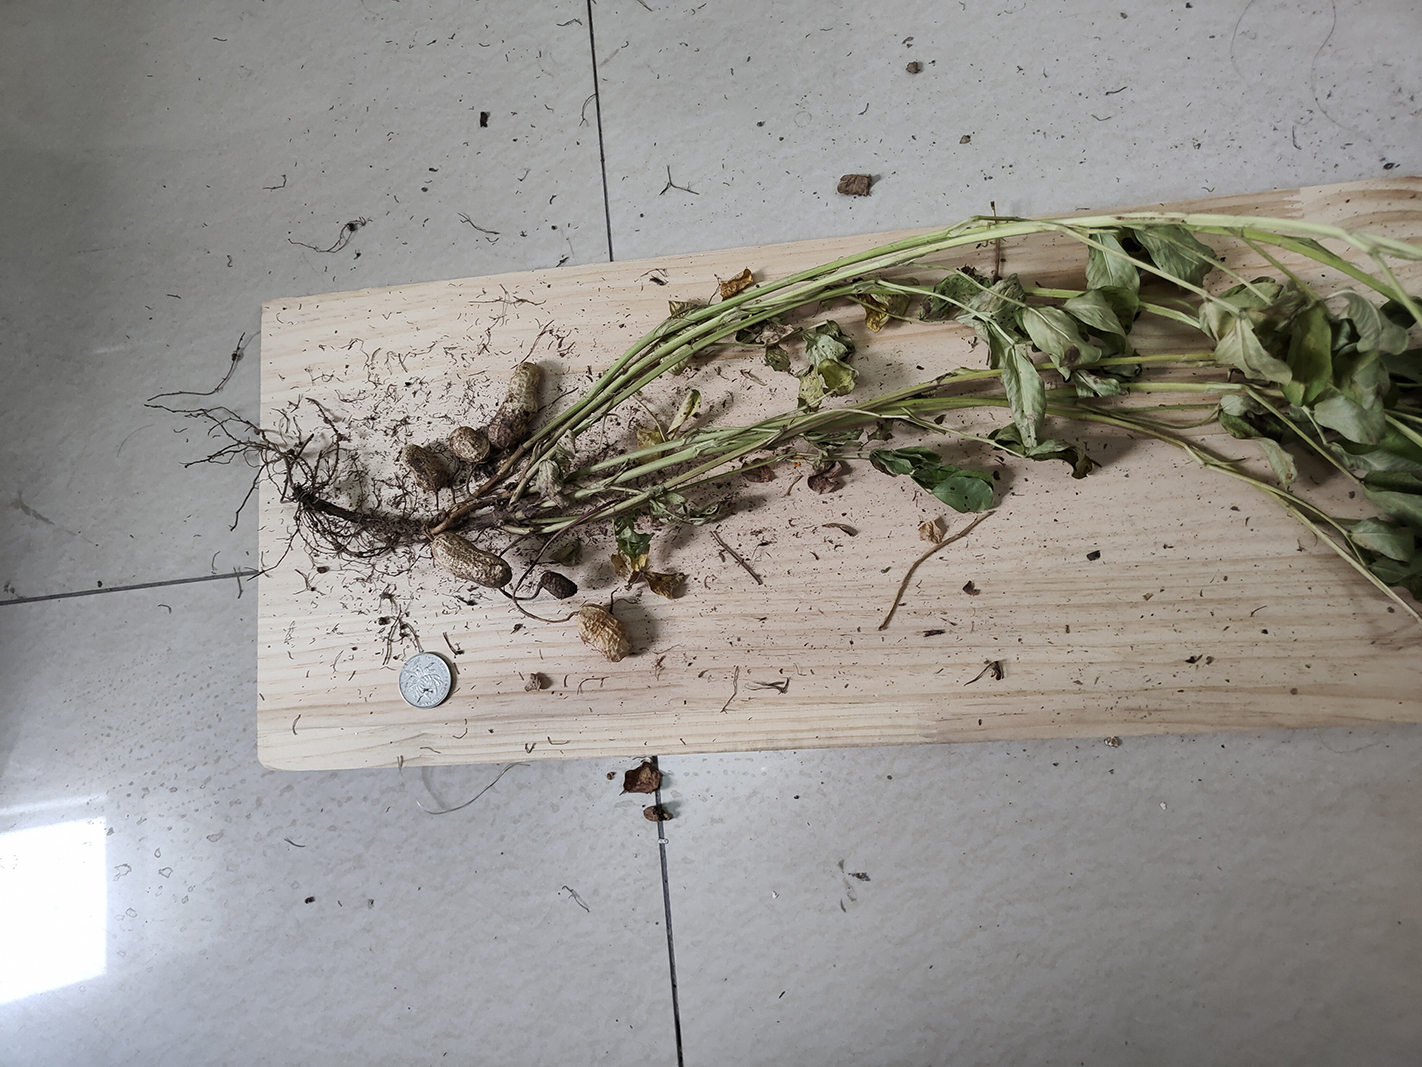h: (490, 361, 543, 448), (433, 533, 513, 587), (579, 604, 632, 662), (448, 427, 487, 462)
l: (402, 446, 442, 491), (542, 572, 578, 599)
